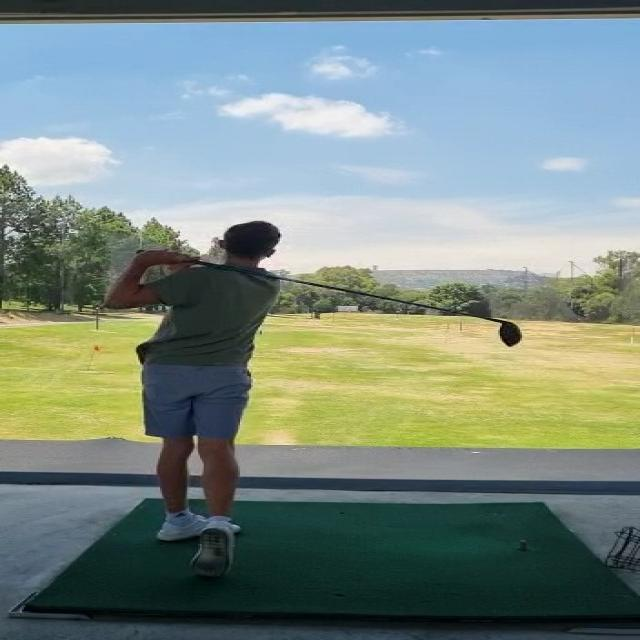club head: (495, 320, 525, 348)
